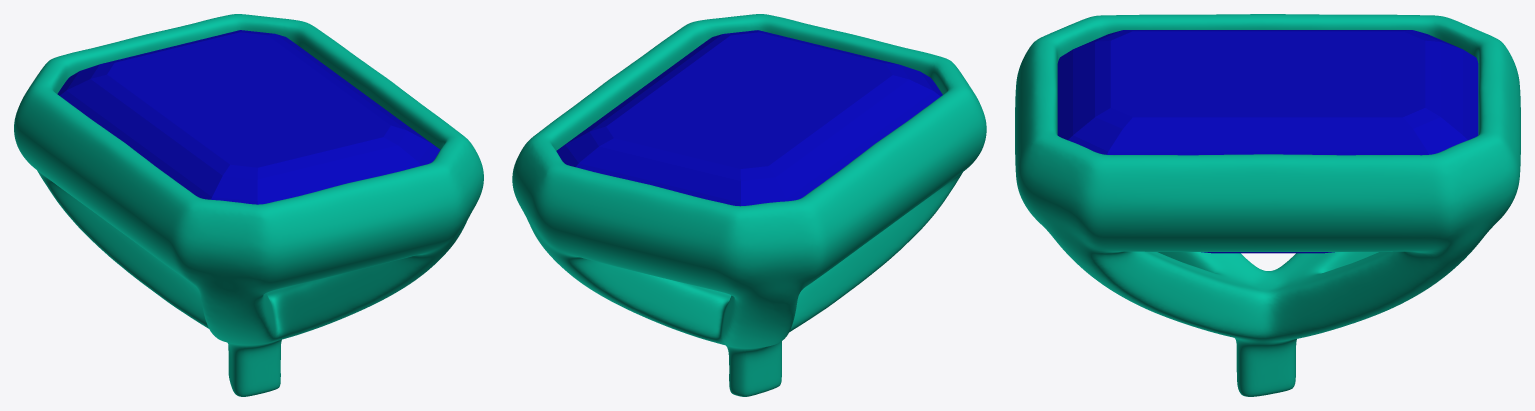
Rendered from Emerald.glb.
3 renders of one model, left to right at view 1: azimuth 30°, elevation 25°; view 2: azimuth 150°, elevation 25°; view 3: azimuth 270°, elevation 25°, orthographic. The views are drawn at different scales.
Parts seen in each view (by area): view 1: /GSMOD388300- BEZEL_Emerald_IJ.3dm, Diamond_Emerald; view 2: /GSMOD388300- BEZEL_Emerald_IJ.3dm, Diamond_Emerald; view 3: /GSMOD388300- BEZEL_Emerald_IJ.3dm, Diamond_Emerald.
Part boxes in pixels (x1,y1,x2,y2): /GSMOD388300- BEZEL_Emerald_IJ.3dm: (14,14,483,396); Diamond_Emerald: (57,30,440,204); /GSMOD388300- BEZEL_Emerald_IJ.3dm: (512,14,986,396); Diamond_Emerald: (556,30,942,206); /GSMOD388300- BEZEL_Emerald_IJ.3dm: (1015,14,1520,396); Diamond_Emerald: (1057,30,1478,253).
Size of the model in its own units: 6.9 by 6.08 by 8.89.
